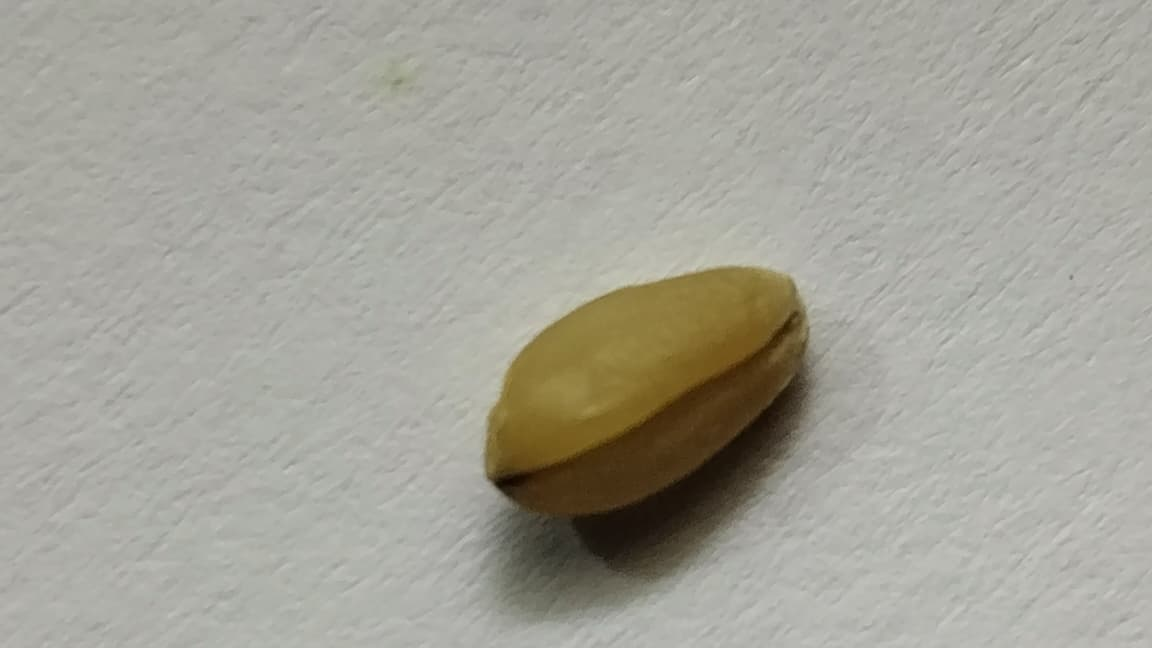healthy: (485, 264, 808, 518)
